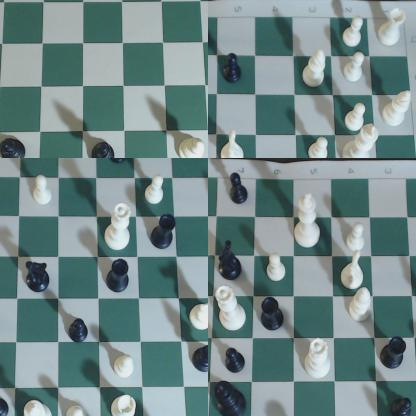black-bishop: (1, 136, 30, 158), (191, 344, 208, 377), (87, 144, 121, 158)
black-king: (212, 378, 253, 416)
black-knight: (219, 241, 248, 283), (25, 260, 52, 294)
black-pawn: (226, 169, 255, 206), (219, 52, 247, 88), (223, 343, 249, 375), (71, 309, 93, 345), (390, 395, 416, 416), (209, 13, 216, 54), (1, 393, 11, 416), (111, 159, 131, 169)
black-rook: (379, 336, 410, 374), (258, 294, 287, 332), (148, 216, 177, 253), (104, 259, 132, 296)
white-bishop: (380, 90, 415, 130), (302, 49, 329, 90), (350, 287, 375, 326), (180, 132, 209, 158)
white-king: (295, 193, 326, 256), (339, 125, 385, 158), (20, 394, 55, 416)
white-knight: (341, 252, 365, 289), (220, 127, 248, 158), (189, 297, 208, 334)
white-pawn: (341, 16, 371, 50), (144, 175, 168, 209), (345, 102, 370, 133), (345, 51, 367, 85), (343, 223, 367, 254), (112, 358, 141, 383), (33, 173, 53, 209), (264, 259, 291, 284), (306, 137, 333, 158), (66, 405, 91, 416)
white-queen: (100, 201, 136, 256), (214, 285, 247, 333), (302, 338, 336, 379)
white-rook: (377, 4, 409, 50), (110, 393, 140, 416)
